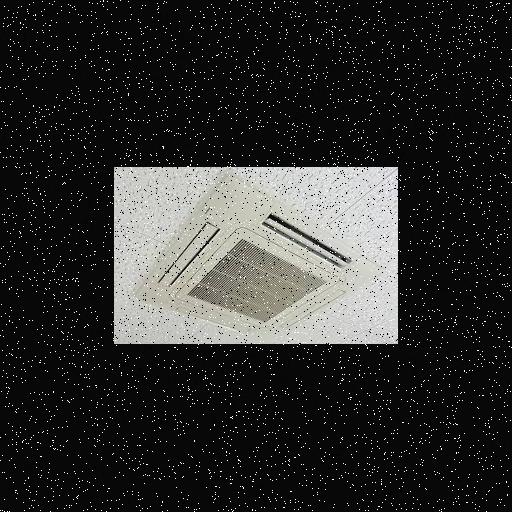4-way-ac: (132, 176, 377, 336)
